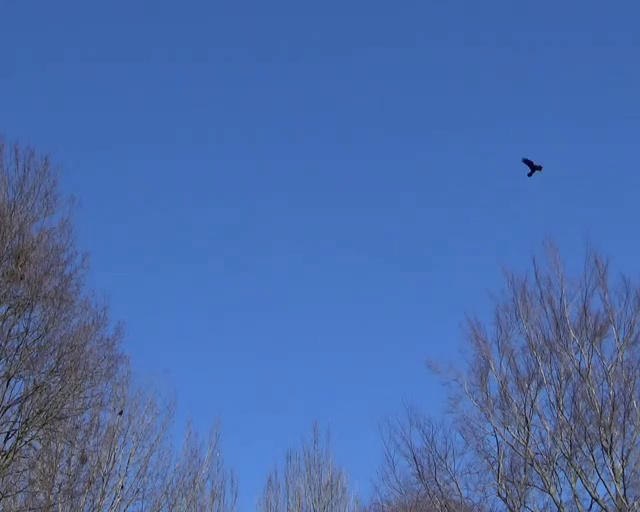BIRD: (522, 157, 542, 177)
